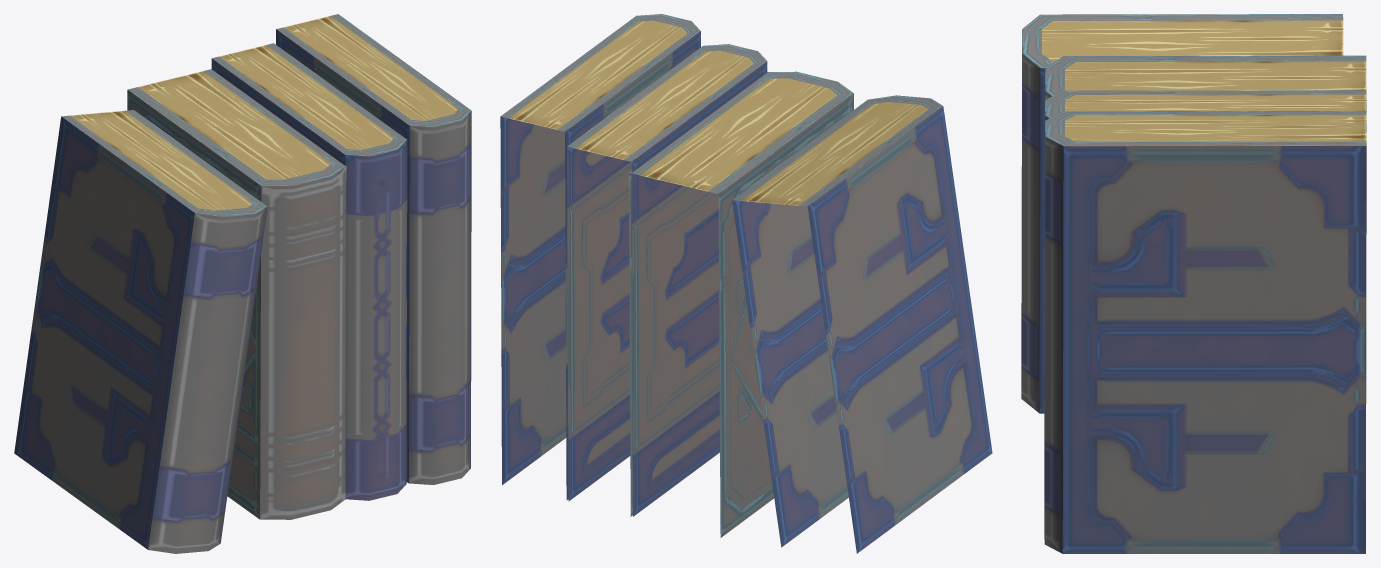
The model's file is BookGroup_Small_1.fbx.
The picture shows the model from 3 angles, left to right: view 1: azimuth 30°, elevation 25°; view 2: azimuth 150°, elevation 25°; view 3: azimuth 270°, elevation 25°; orthographic projection. The views are drawn at different scales.
Visible parts, largest first — view 1: BookGroup_Small_1; view 2: BookGroup_Small_1; view 3: BookGroup_Small_1.
Part boxes in pixels (x1,y1,x2,y2): BookGroup_Small_1: [14, 14, 471, 553]; BookGroup_Small_1: [500, 14, 992, 553]; BookGroup_Small_1: [1021, 14, 1366, 553].
Bounding box in the file's own units: 28.93 × 29.83 × 22.56.
